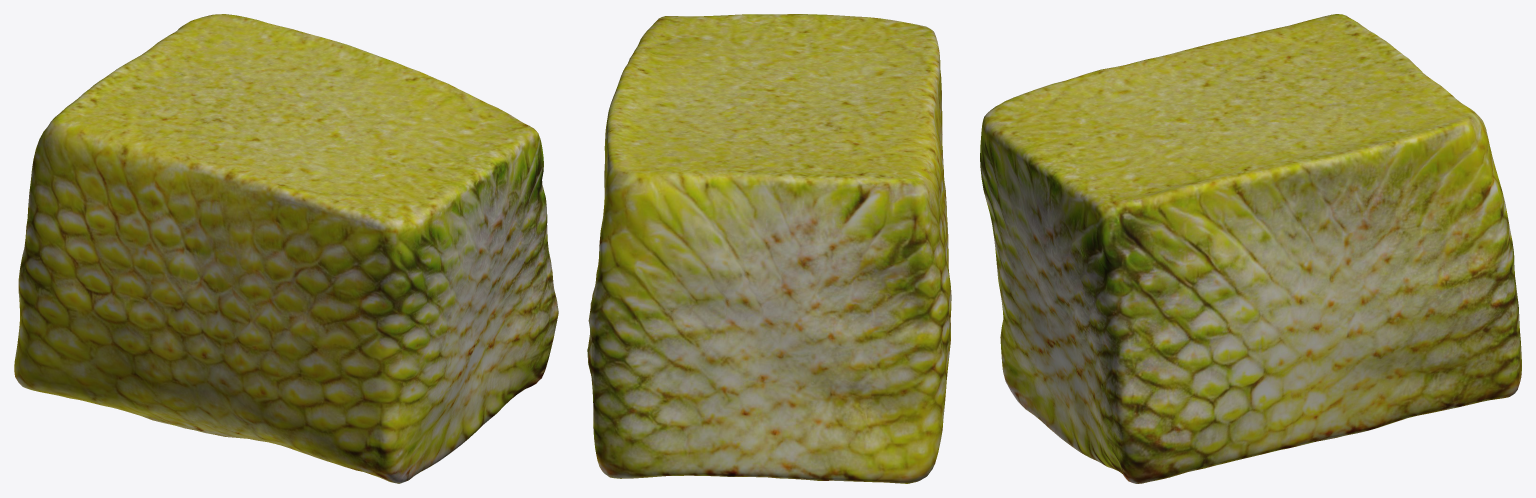
Rendered from Spina.fbx.
3 views of the same model, side by side, from view 1: azimuth 30°, elevation 25°; view 2: azimuth 150°, elevation 25°; view 3: azimuth 270°, elevation 25° (orthographic). The views are drawn at different scales.
Visible parts, largest first — view 1: mesh; view 2: mesh; view 3: mesh.
Part boxes in pixels (box(x1,y1,x2,y2)): mesh: box(14, 14, 558, 483); mesh: box(587, 14, 951, 483); mesh: box(980, 14, 1521, 483).
Size of the model in its own units: 91.28 by 63.4 by 99.9.
